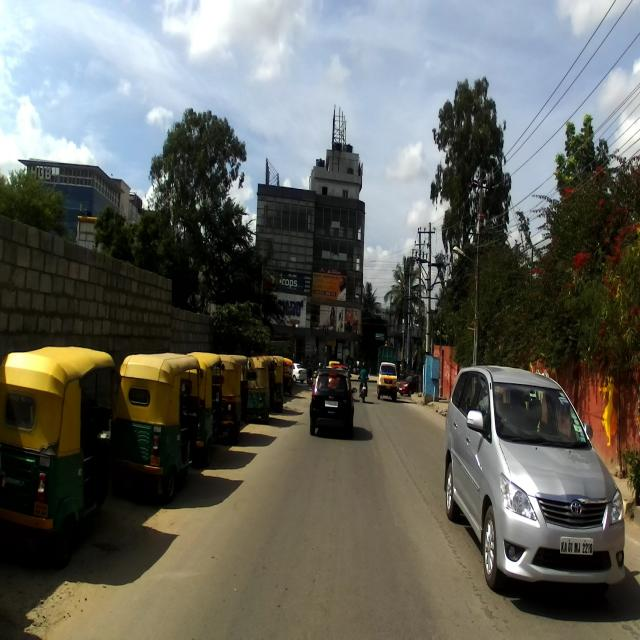Car_Ford: (308, 362, 358, 440)
Car_Toyota: (442, 362, 624, 593)
autorickshaw: (0, 345, 122, 572), (120, 354, 203, 505)
